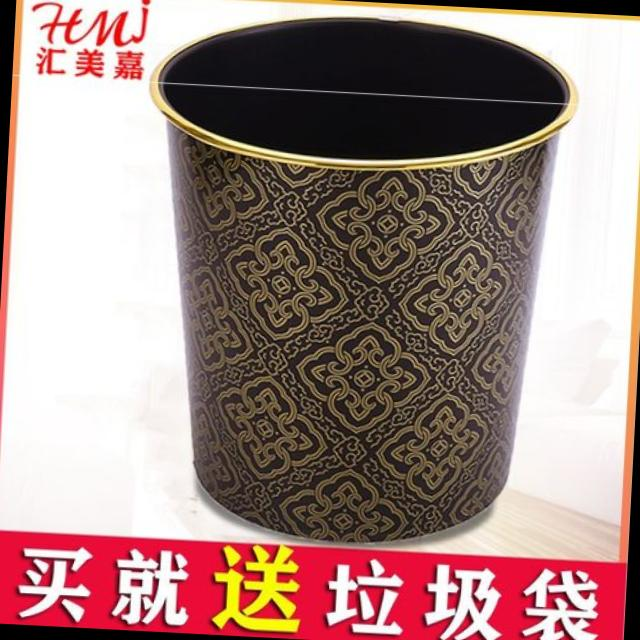dustbin: (124, 3, 586, 555)
